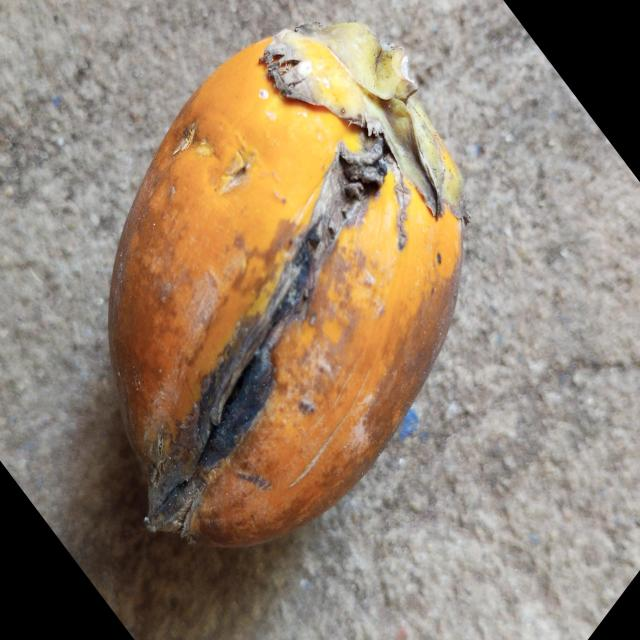damaged: (108, 22, 465, 551)
